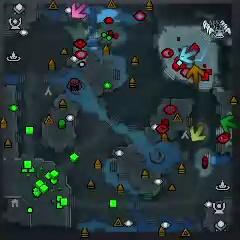x1: (71, 2, 87, 21)
x2: (190, 124, 206, 142)
x3: (179, 46, 197, 65)
x4: (220, 115, 239, 132)
x5: (186, 66, 204, 86)
